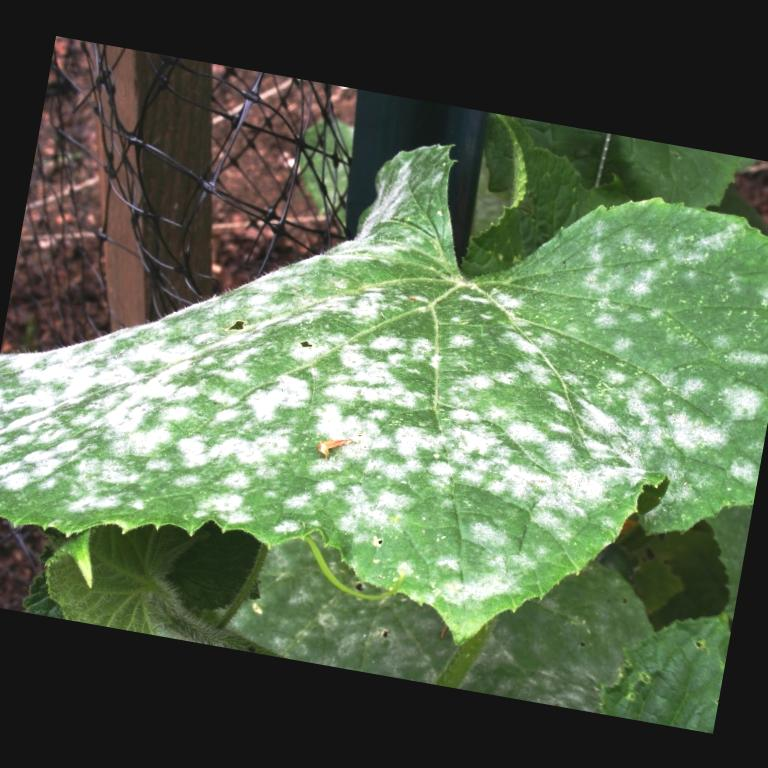powdery-mildew: (316, 290, 574, 565), (70, 354, 308, 520)
